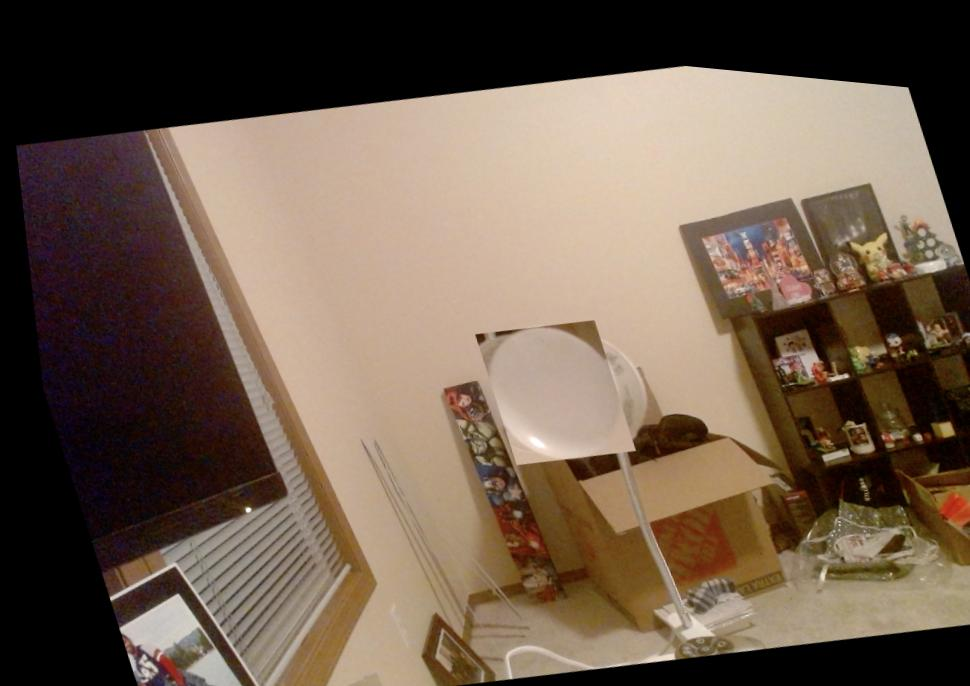Fan: (464, 298, 628, 464)
